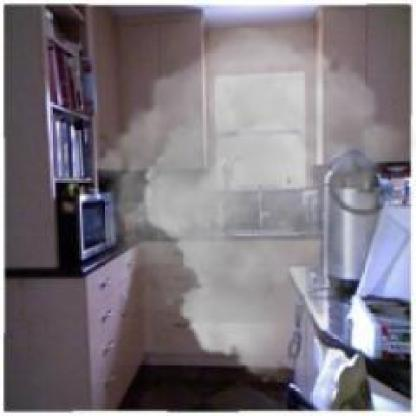Smoke: (81, 28, 414, 385)
